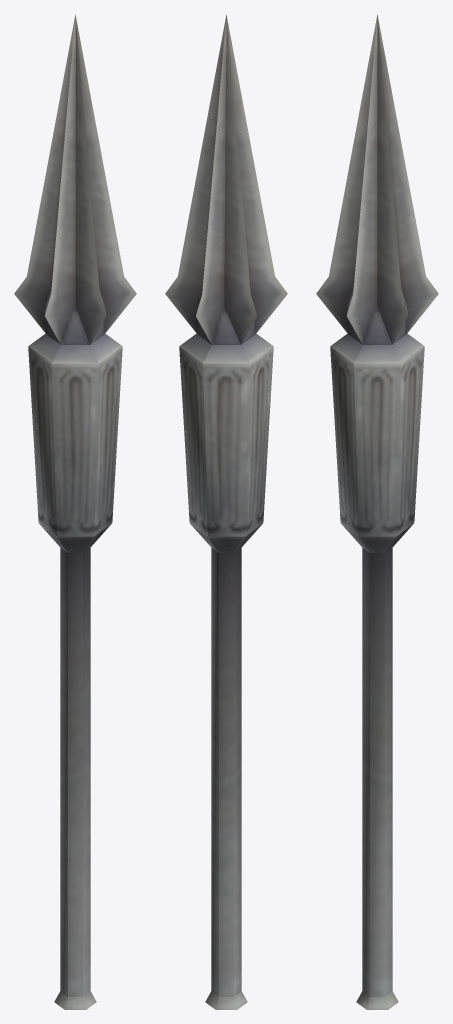
The model's file is templarLance.glb.
The picture shows the model from 3 angles, left to right: view 1: azimuth 90°, elevation 25°; view 2: azimuth 150°, elevation 25°; view 3: azimuth 270°, elevation 25°; orthographic projection.
Visible parts, largest first — view 1: templarLance; view 2: templarLance; view 3: templarLance.
Part boxes in pixels (x1,y1,x2,y2): templarLance: (14,14,136,1009); templarLance: (165,14,287,1009); templarLance: (316,14,438,1009).
Bounding box in the file's own units: 0.3023 × 3.12 × 0.3491.
1 material, 1 textured.
